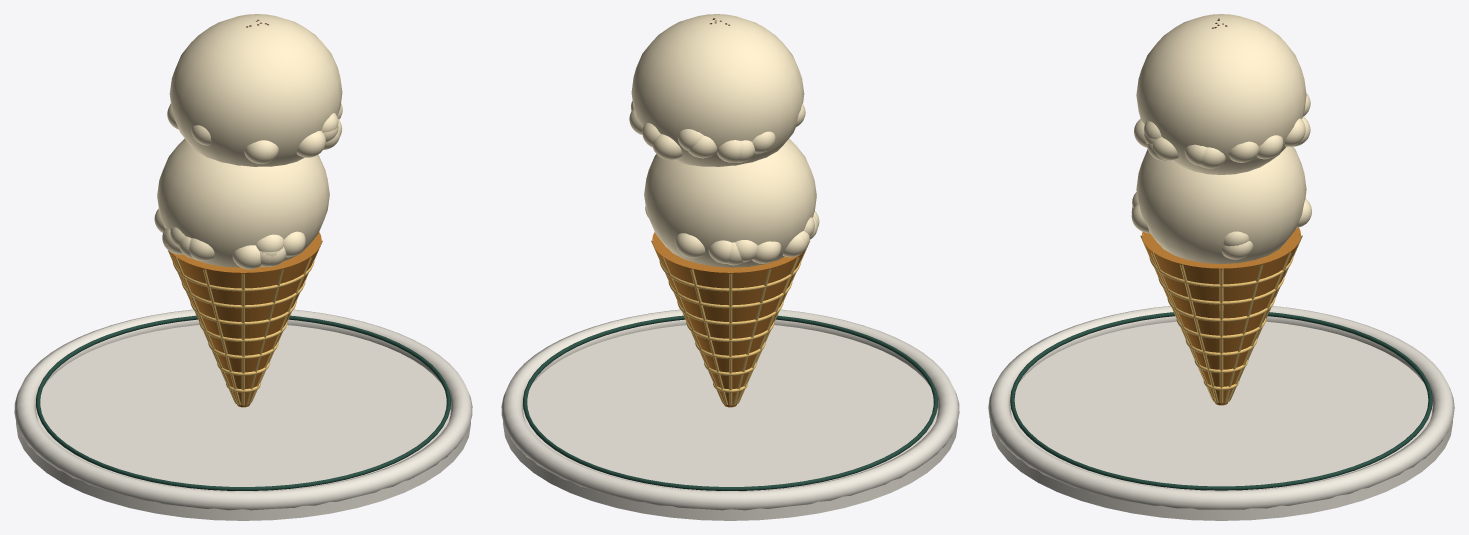
The model's file is icecream-regular.glb.
3 renders of one model, left to right at view 1: azimuth 30°, elevation 25°; view 2: azimuth 150°, elevation 25°; view 3: azimuth 270°, elevation 25°, orthographic.
Visible parts, largest first — view 1: Morsel original icecream regular, vanilla scoop (×2), waffle cone; view 2: Morsel original icecream regular, vanilla scoop (×2), waffle cone; view 3: Morsel original icecream regular, vanilla scoop (×2), waffle cone.
Part boxes in pixels (x1,y1,x2,y2): Morsel original icecream regular: (14, 19, 472, 520); vanilla scoop (×2): (157, 14, 342, 267); waffle cone: (169, 232, 321, 407); Morsel original icecream regular: (501, 18, 959, 520); vanilla scoop (×2): (631, 14, 816, 267); waffle cone: (652, 232, 805, 407); Morsel original icecream regular: (988, 18, 1454, 520); vanilla scoop (×2): (1136, 14, 1306, 263); waffle cone: (1142, 227, 1300, 405).
Size of the model in its own units: 2.52 by 2.42 by 2.52.
